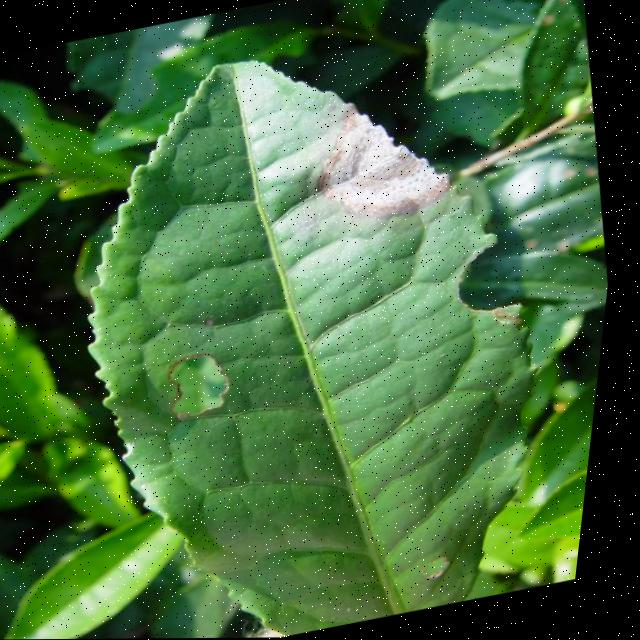Tea cloud leaf blight: (301, 90, 469, 233)
